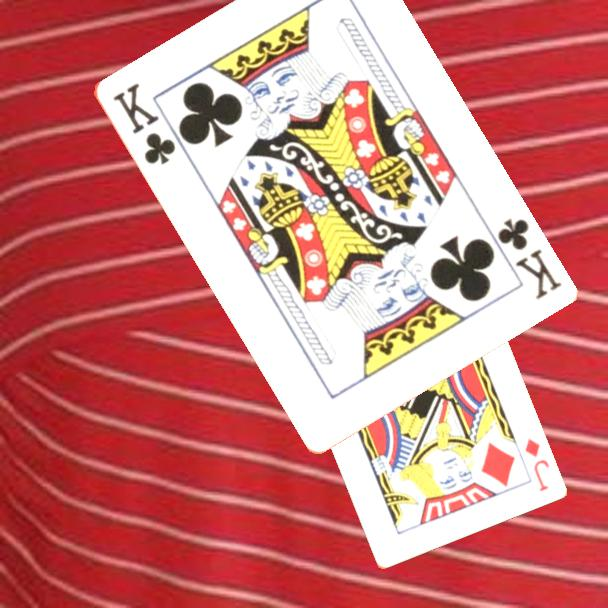c13: (493, 214, 564, 302), (108, 79, 178, 167)
d11: (521, 435, 552, 494)
